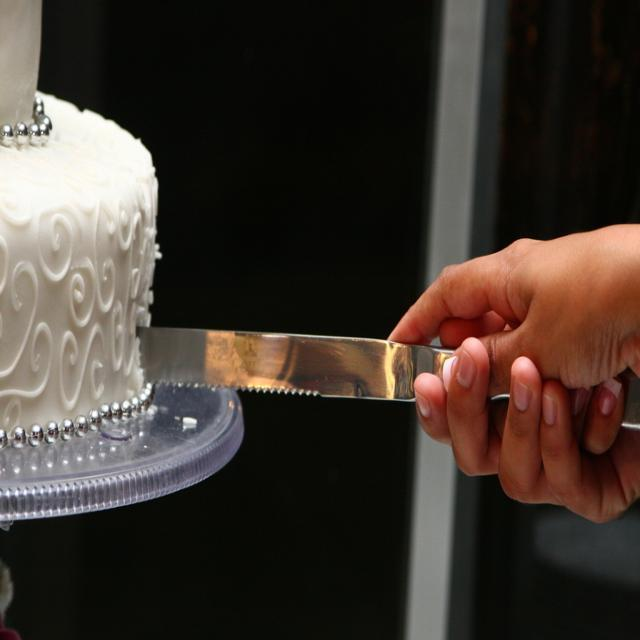Knife: (140, 328, 451, 401)
